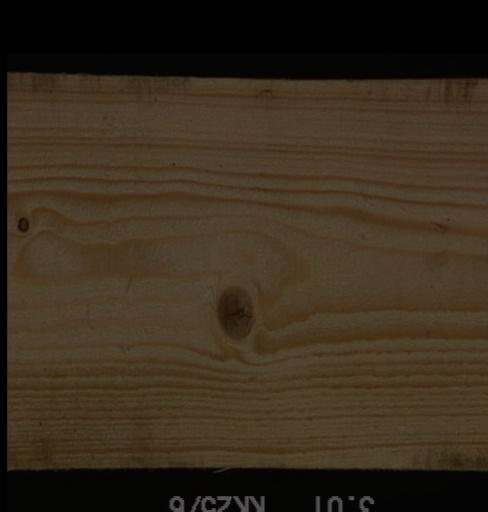dry_knot: (16, 214, 32, 236)
sound_knot: (213, 286, 257, 340)
